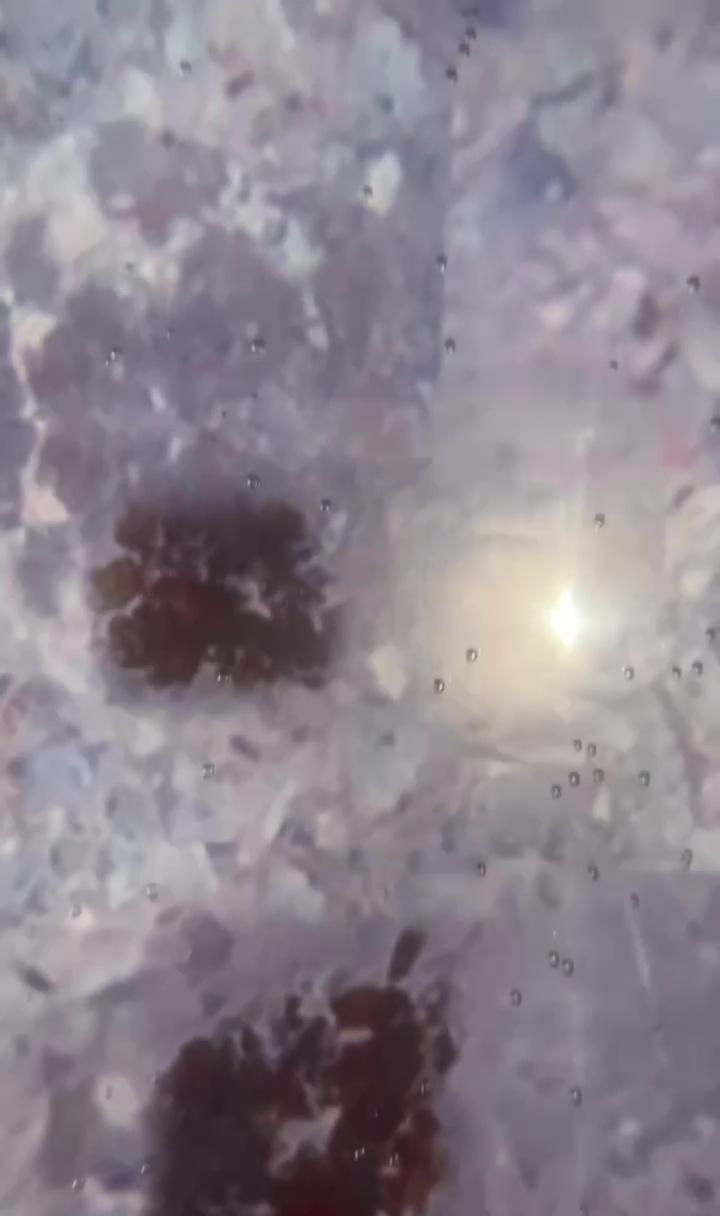Corrosion: (139, 925, 462, 1216), (83, 497, 335, 699)
